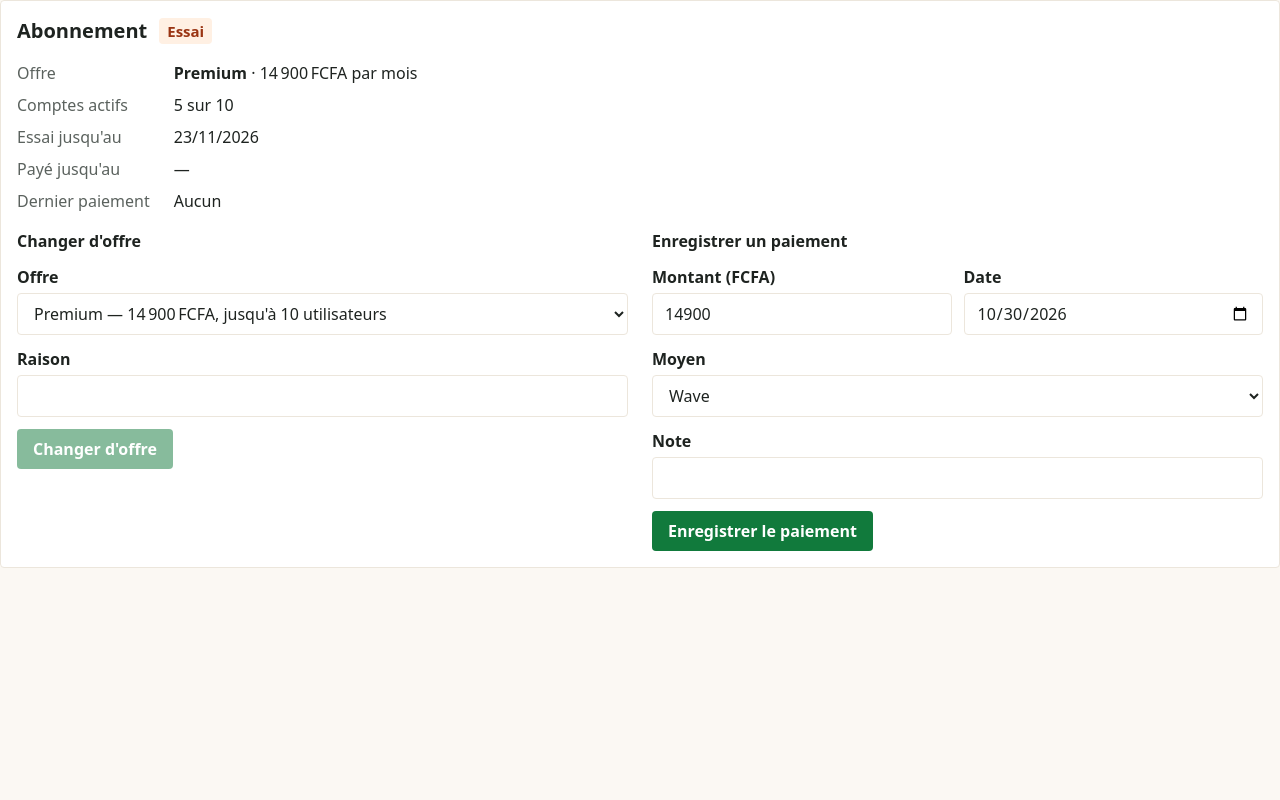
it: carte abonnement › garde la clé du paiement jusqu'au succès, puis en tire une autre
The image size is (1280, 800).
Click the button "Enregistrer le paiement" at (762, 531), box top-left (652, 511), bottom-right (873, 551)
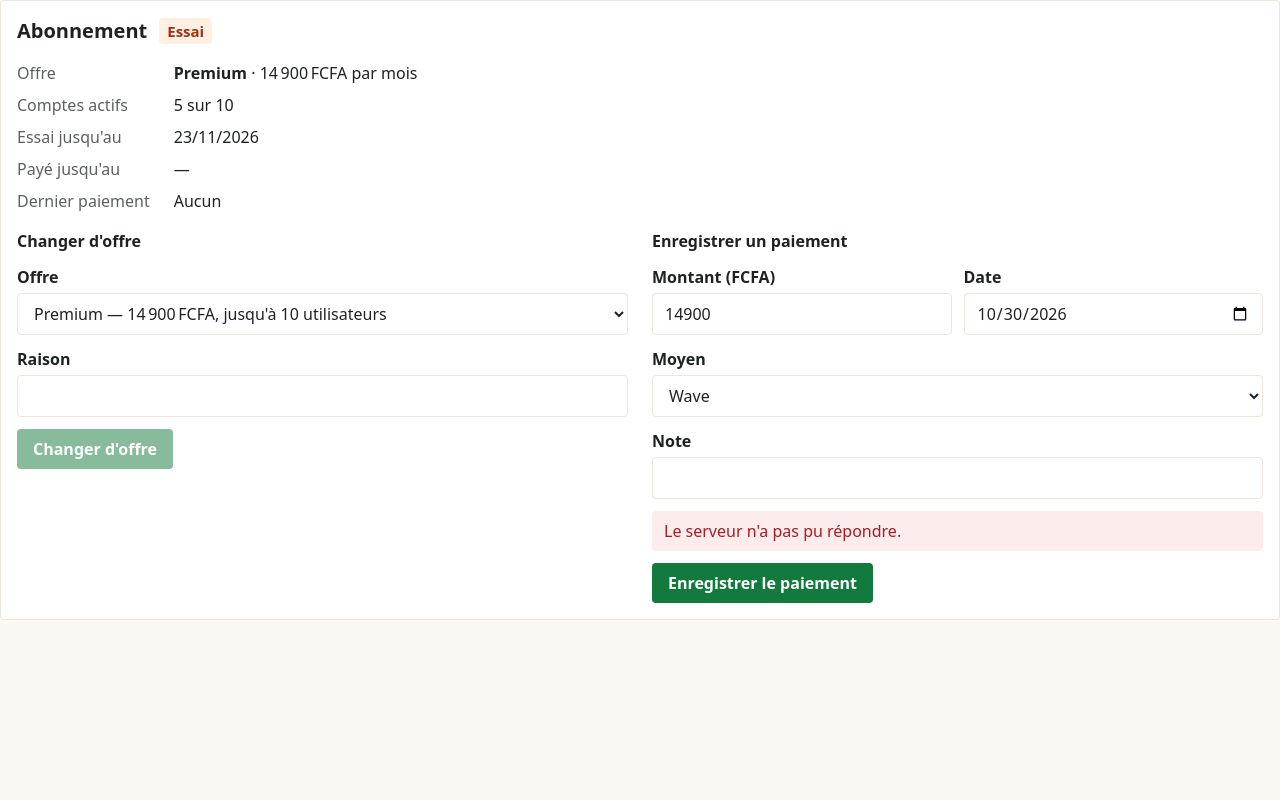
Now the message "Le serveur n'a pas pu répondre." is shown, box top-left (652, 511), bottom-right (1263, 551)
Click the button "Enregistrer le paiement" at (762, 583), box top-left (652, 563), bottom-right (873, 603)
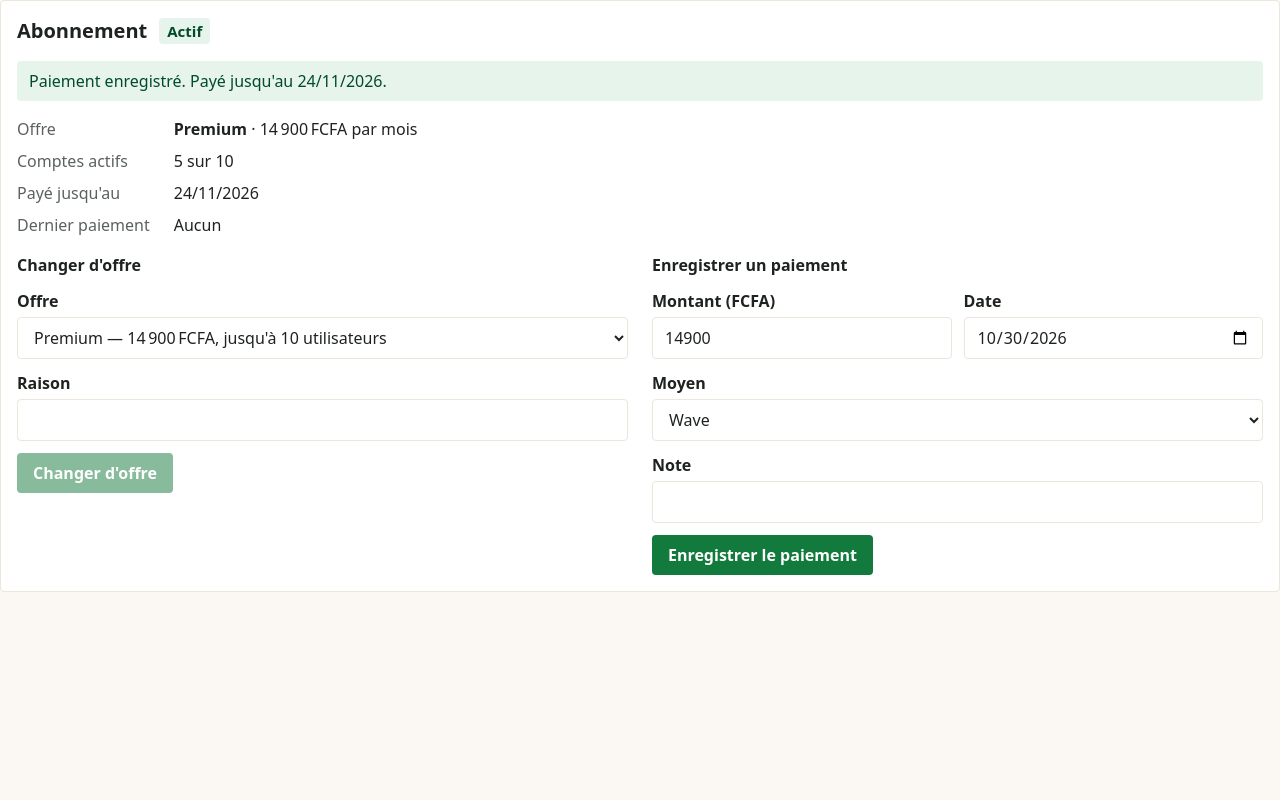
Now the text "Paiement enregistré. Payé jusqu'au 24/11/2026." is shown, box top-left (17, 61), bottom-right (1263, 101)
